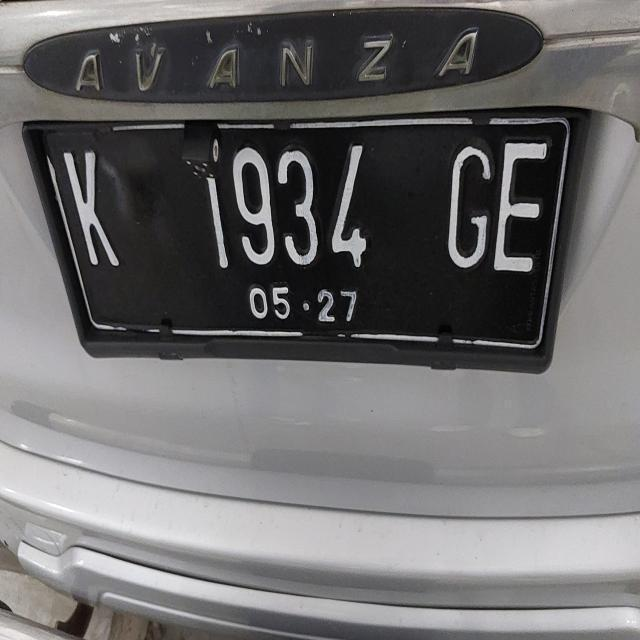1: (178, 124, 238, 306)
3: (272, 136, 324, 280)
4: (323, 126, 380, 286)
9: (224, 127, 280, 284)
E: (490, 117, 552, 307)
G: (438, 118, 502, 277)
K: (49, 125, 128, 304)
